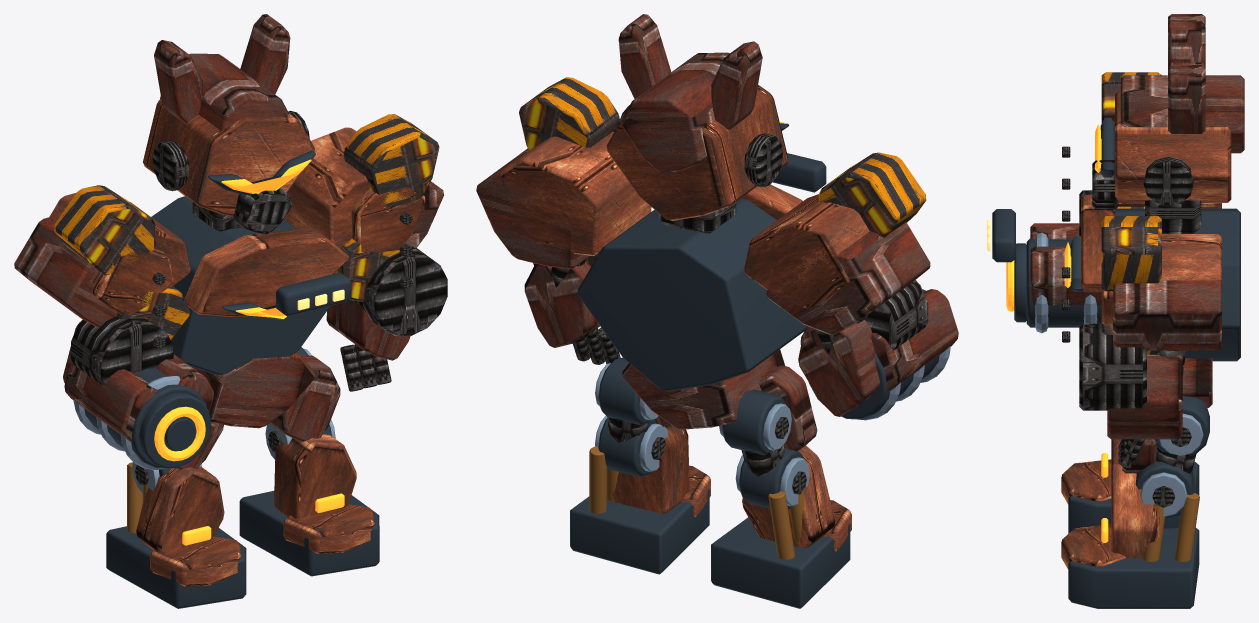
Rendered from sector_09_0.glb.
3 views of the same model, side by side, from view 1: azimuth 30°, elevation 25°; view 2: azimuth 150°, elevation 25°; view 3: azimuth 270°, elevation 25° (orthographic). The views are drawn at different scales.
Visible parts, largest first — view 1: Cuirass yoke, Navy crown, Angular scout torso, Neck actuator, Salvaged armor patch, Greave armor, Greave armor.001, Servo housing.004, Servo housing.001, Tapered thigh shield.001, Recessed V optic, Bearing ring (+1 smaller); view 2: Navy crown, Cuirass yoke, Angular scout torso, Servo housing.001, Servo housing.004, Salvaged armor patch, Neck actuator, Greave armor.001, Greave armor, Tapered thigh shield, Bearing ring.002, Calf piston (+5 smaller); view 3: Navy crown, Cuirass yoke, Neck actuator, Angular scout torso, Servo housing.004, Salvaged armor patch, Greave armor.001, Greave armor, Bearing ring.008, Calf piston.002, Servo housing.001, Hub.008 (+3 smaller).
Boxes of the visible parts, left/top/right/bottom form: Cuirass yoke: left=49, top=98, right=425, bottom=316; Navy crown: left=14, top=14, right=443, bottom=442; Angular scout torso: left=73, top=150, right=351, bottom=468; Neck actuator: left=71, top=111, right=447, bottom=391; Salvaged armor patch: left=54, top=114, right=439, bottom=340; Greave armor: left=136, top=466, right=241, bottom=586; Greave armor.001: left=274, top=434, right=374, bottom=553; Servo housing.004: left=239, top=347, right=379, bottom=576; Servo housing.001: left=106, top=468, right=246, bottom=608; Tapered thigh shield.001: left=271, top=355, right=340, bottom=441; Recessed V optic: left=154, top=159, right=311, bottom=461; Bearing ring: left=74, top=376, right=180, bottom=469; Navy crown: left=476, top=14, right=958, bottom=429; Cuirass yoke: left=499, top=85, right=869, bottom=308; Angular scout torso: left=578, top=123, right=939, bottom=419; Servo housing.001: left=711, top=389, right=850, bottom=608; Servo housing.004: left=570, top=357, right=709, bottom=574; Salvaged armor patch: left=519, top=77, right=926, bottom=323; Neck actuator: left=533, top=105, right=928, bottom=364; Greave armor.001: left=612, top=424, right=710, bottom=516; Greave armor: left=742, top=445, right=851, bottom=551; Tapered thigh shield: left=759, top=365, right=817, bottom=451; Bearing ring.002: left=719, top=403, right=809, bottom=506; Calf piston: left=768, top=490, right=804, bottom=559; Navy crown: left=1030, top=14, right=1244, bottom=439; Cuirass yoke: left=1081, top=91, right=1231, bottom=325; Neck actuator: left=1062, top=146, right=1201, bottom=468; Angular scout torso: left=992, top=117, right=1240, bottom=361; Servo housing.004: left=1068, top=395, right=1209, bottom=608; Salvaged armor patch: left=1101, top=72, right=1161, bottom=354; Greave armor.001: left=1061, top=463, right=1159, bottom=569; Greave armor: left=1061, top=439, right=1156, bottom=504; Bearing ring.008: left=1140, top=413, right=1203, bottom=516; Calf piston.002: left=1143, top=493, right=1199, bottom=561; Servo housing.001: left=1068, top=462, right=1199, bottom=533; Hub.008: left=1152, top=427, right=1196, bottom=507.
Bounding box in the file's own units: 1.17 × 1.52 × 0.6845.
9 materials, 4 textured.
